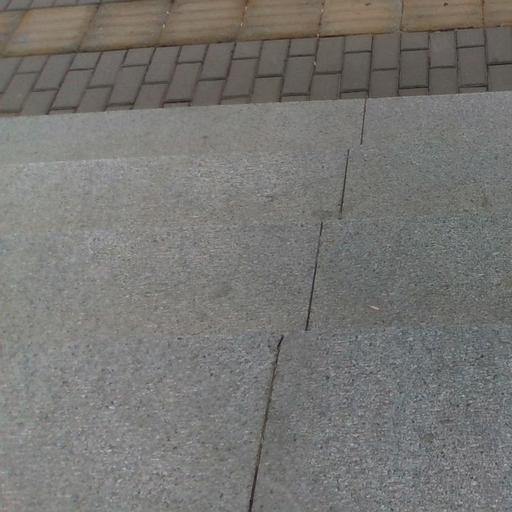stairs: (0, 94, 511, 511)
